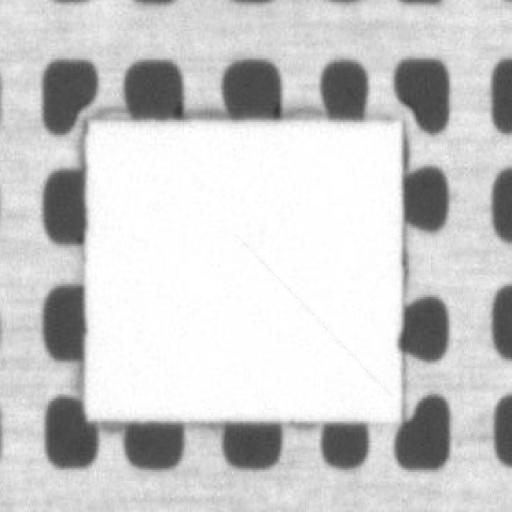DIE_CRACK: (310, 174, 512, 296)
